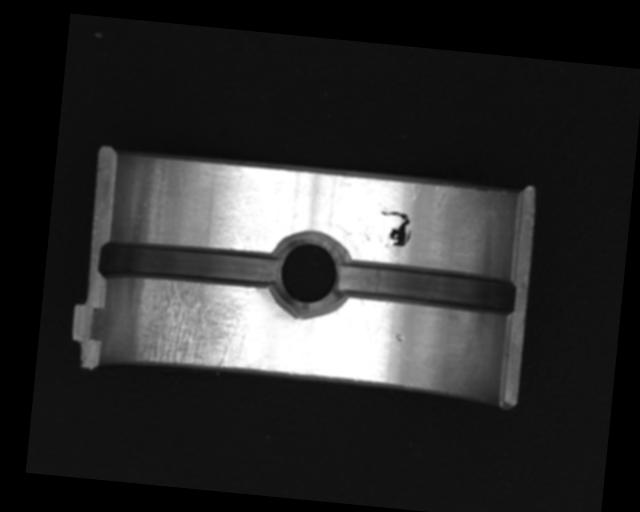blot: (375, 207, 415, 252)
bruise: (395, 333, 405, 342)
gap: (334, 257, 520, 319), (95, 238, 280, 292)
hole: (262, 228, 351, 321)
nick: (231, 230, 248, 251)
scratch: (122, 274, 260, 373)
